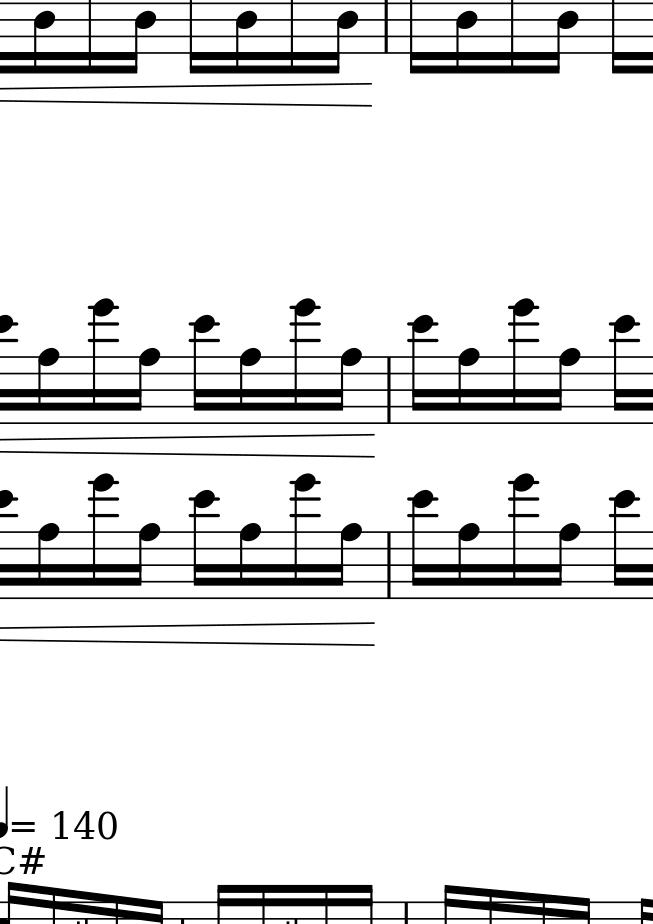16_12: (188, 489, 221, 599), (608, 490, 640, 600), (408, 315, 439, 425), (610, 315, 640, 427), (190, 313, 220, 424), (410, 488, 438, 599)
16_14: (287, 473, 321, 600), (506, 474, 540, 599), (289, 298, 322, 425), (87, 474, 120, 600), (507, 298, 539, 425), (89, 298, 119, 424)
16_8: (127, 522, 161, 600), (330, 523, 364, 600), (550, 347, 581, 427), (332, 346, 364, 423), (551, 521, 581, 601), (134, 347, 162, 424), (454, 522, 481, 601), (34, 522, 61, 601), (455, 347, 482, 425), (236, 347, 263, 424), (235, 522, 261, 601), (37, 348, 59, 425)
Single_barline: (380, 534, 398, 596), (381, 357, 398, 422)
